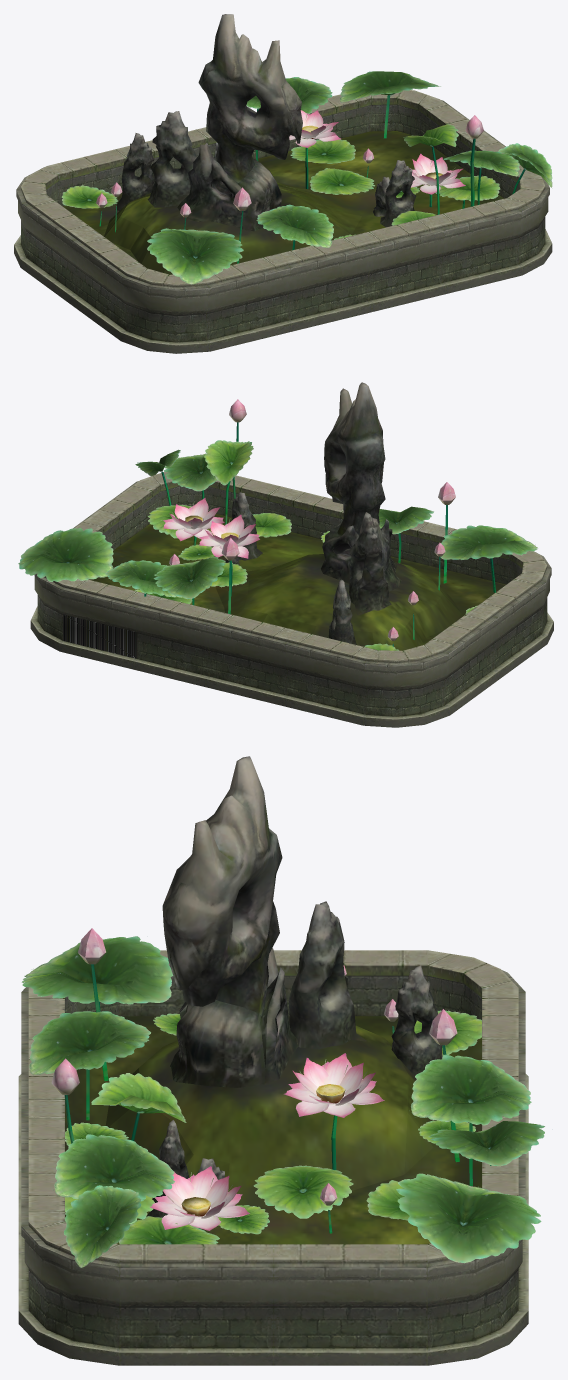
The model's file is jz_hehuachi01_53_39_6028out.fbx.
3 views of the same model, one above another, from view 1: azimuth 30°, elevation 25°; view 2: azimuth 150°, elevation 25°; view 3: azimuth 270°, elevation 25° (orthographic). The views are drawn at different scales.
Parts seen in each view (by area): view 1: 0000_jz_hehuachi01, 0001_jz_hehuachi01; view 2: 0000_jz_hehuachi01, 0001_jz_hehuachi01; view 3: 0000_jz_hehuachi01, 0001_jz_hehuachi01.
Part boxes in pixels (left/top/right/bottom): 0000_jz_hehuachi01: left=14, top=14, right=552, bottom=353; 0001_jz_hehuachi01: left=61, top=71, right=552, bottom=284; 0000_jz_hehuachi01: left=30, top=382, right=553, bottom=727; 0001_jz_hehuachi01: left=18, top=399, right=537, bottom=650; 0000_jz_hehuachi01: left=18, top=756, right=528, bottom=1365; 0001_jz_hehuachi01: left=21, top=928, right=544, bottom=1267.
Size of the model in its own units: 6.41 by 3.7 by 4.52.
